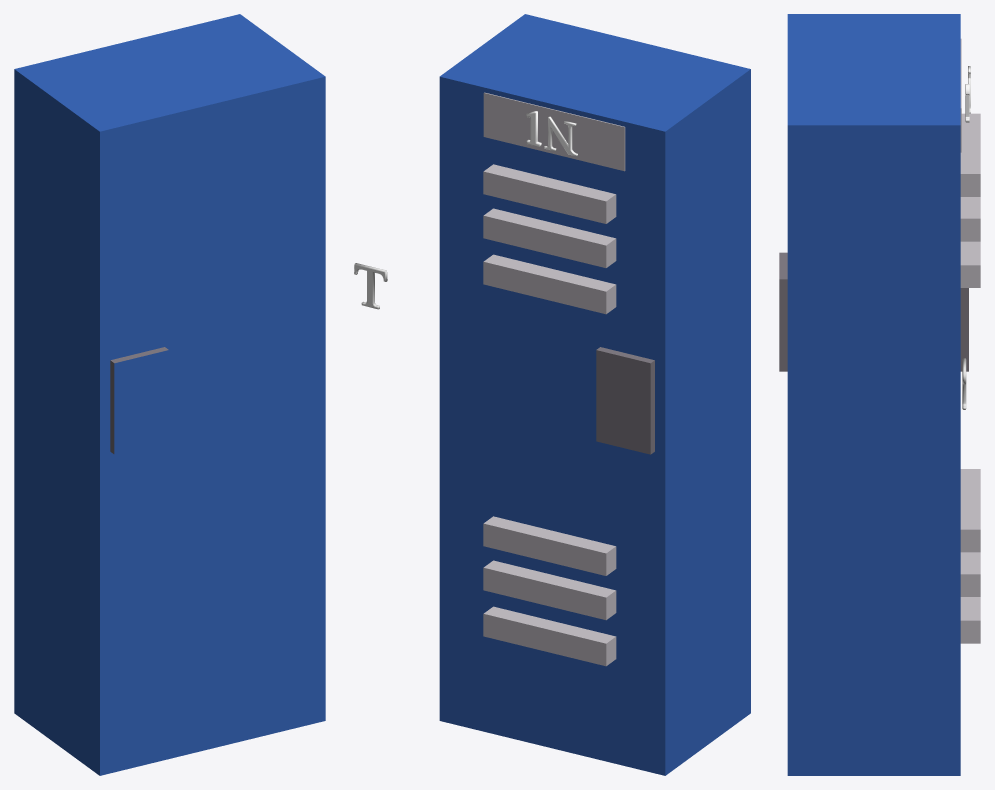
The model's file is LOCKER.fbx.
The picture shows the model from 3 angles, left to right: view 1: azimuth 30°, elevation 25°; view 2: azimuth 150°, elevation 25°; view 3: azimuth 270°, elevation 25°; orthographic projection.
Visible parts, largest first — view 1: Cube, Cube.006; view 2: Cube, Cube.008, Cube.006, Cube.002, Cube.010, Cube.004, Cube.009, Cube.003, Cube.001; view 3: Cube, Cube.006, Cube.009, Cube.003, Cube.001, Cube.004, Cube.002, Cube.010.
Boxes of the visible parts, x1=… form: Cube: x1=14, y1=14, x2=325, y2=775; Cube.006: x1=110, y1=347, x2=168, y2=454; Cube: x1=439, y1=14, x2=750, y2=775; Cube.008: x1=483, y1=92, x2=625, y2=171; Cube.006: x1=596, y1=347, x2=654, y2=454; Cube.002: x1=483, y1=208, x2=616, y2=267; Cube.010: x1=483, y1=560, x2=616, y2=620; Cube.004: x1=483, y1=254, x2=616, y2=314; Cube.009: x1=483, y1=516, x2=616, y2=575; Cube.003: x1=483, y1=164, x2=616, y2=223; Cube.001: x1=483, y1=606, x2=616, y2=666; Cube: x1=787, y1=14, x2=960, y2=775; Cube.006: x1=779, y1=252, x2=968, y2=371; Cube.009: x1=960, y1=469, x2=980, y2=552; Cube.003: x1=960, y1=113, x2=980, y2=196; Cube.001: x1=960, y1=597, x2=980, y2=643; Cube.004: x1=960, y1=241, x2=980, y2=287; Cube.002: x1=960, y1=197, x2=980, y2=241; Cube.010: x1=960, y1=552, x2=980, y2=596.
Bounding box in the file's own units: 116 × 230 × 64.54.
Materials: 10 (10 with a texture image).
